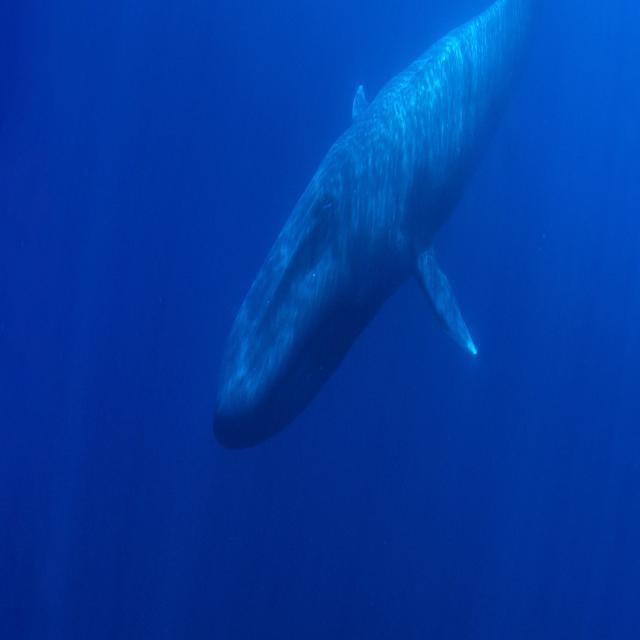blue_whale: (208, 0, 550, 515)
